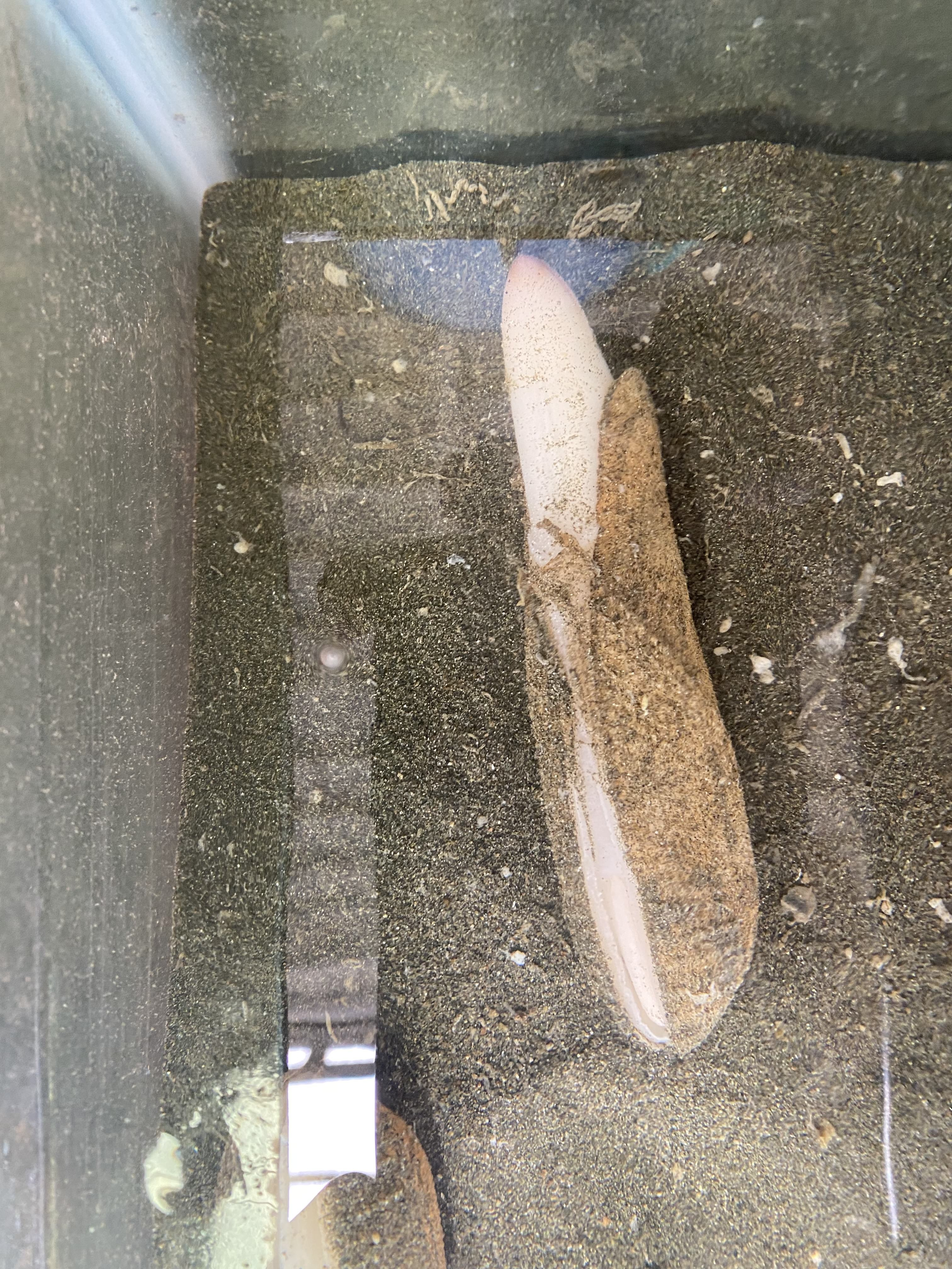Healthy: (501, 254, 757, 1054)
